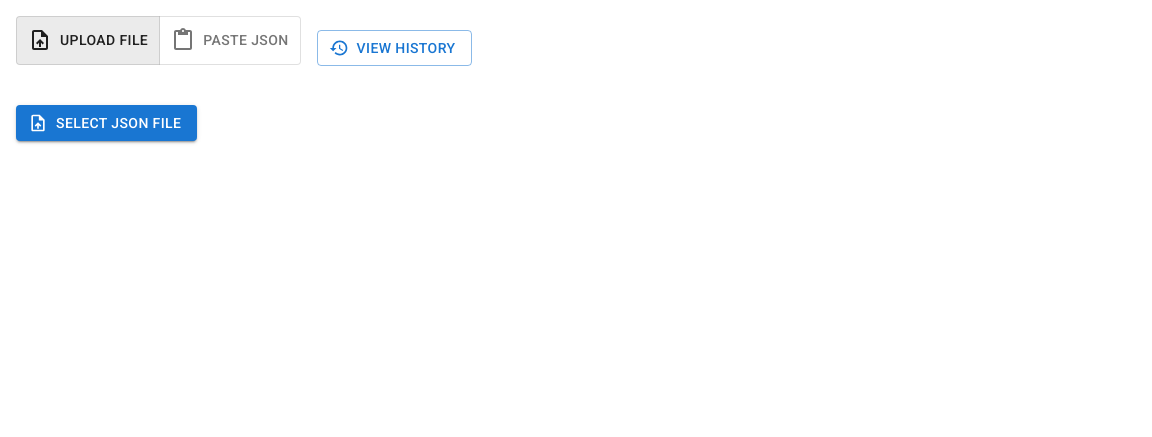
Test case: JsonImport › Mode Toggle › should toggle between file and paste modes
Click the button "Paste JSON".
click(230, 40)  # box x1=159 y1=16 x2=301 y2=64
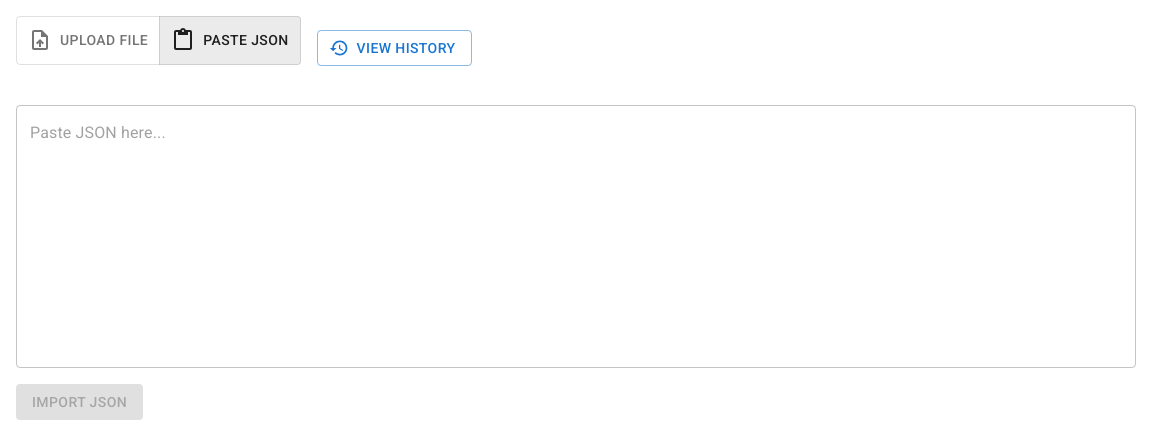
Check: the text box with placeholder "Paste JSON here..." is shown, box x1=30 y1=121 x2=1122 y2=351
Click the button "Upload File".
click(88, 40)  # box x1=16 y1=16 x2=160 y2=64
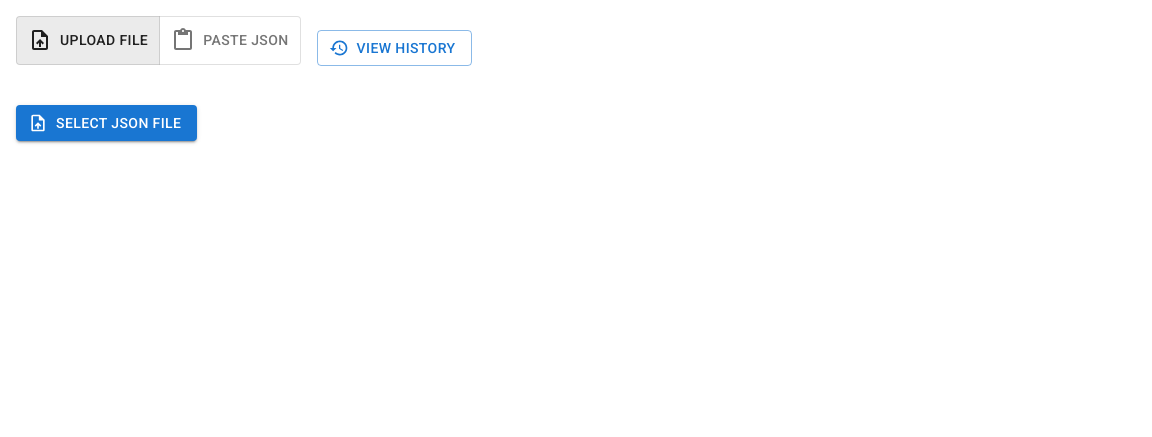
Check: the button "Select JSON File" is shown, box x1=16 y1=104 x2=197 y2=141
